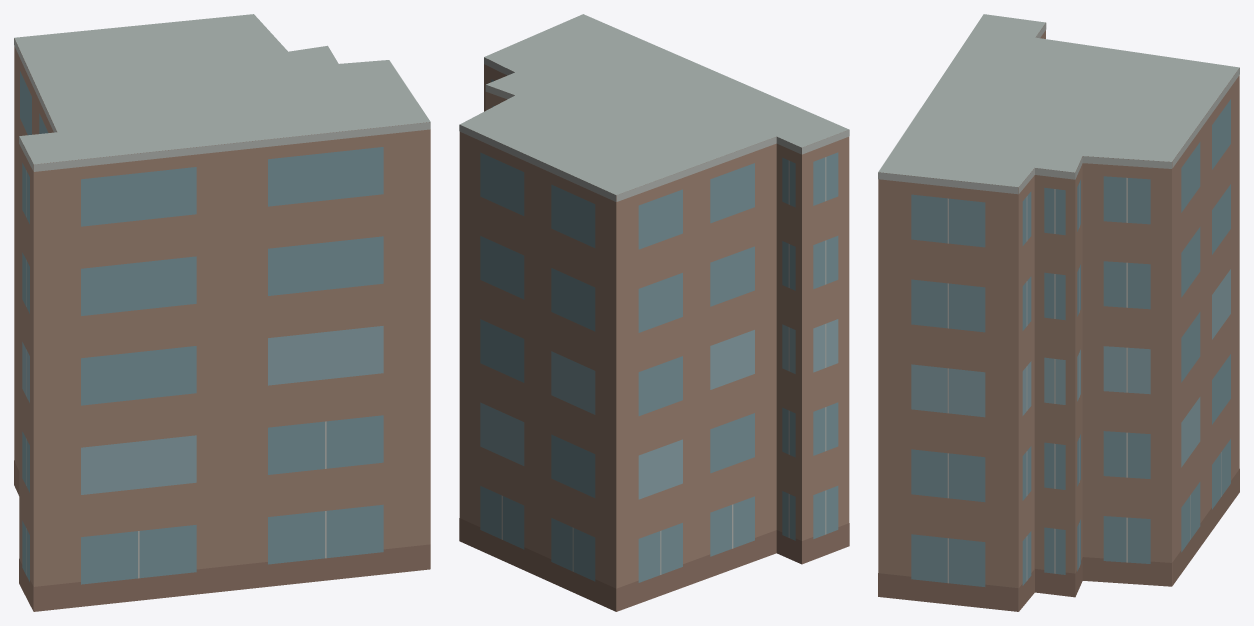
The model's file is survey-upis-32480379.glb.
3 views of the same model, side by side, from view 1: azimuth 30°, elevation 25°; view 2: azimuth 150°, elevation 25°; view 3: azimuth 270°, elevation 25° (orthographic). The views are drawn at different scales.
Visible parts, largest first — view 1: survey-upis-32480379.tmp; view 2: survey-upis-32480379.tmp; view 3: survey-upis-32480379.tmp.
Boxes of the visible parts, x1=… form: survey-upis-32480379.tmp: x1=14, y1=14, x2=430, y2=611; survey-upis-32480379.tmp: x1=459, y1=14, x2=849, y2=611; survey-upis-32480379.tmp: x1=878, y1=14, x2=1239, y2=611.
Size of the model in its own units: 12.78 by 14.6 by 11.28.
